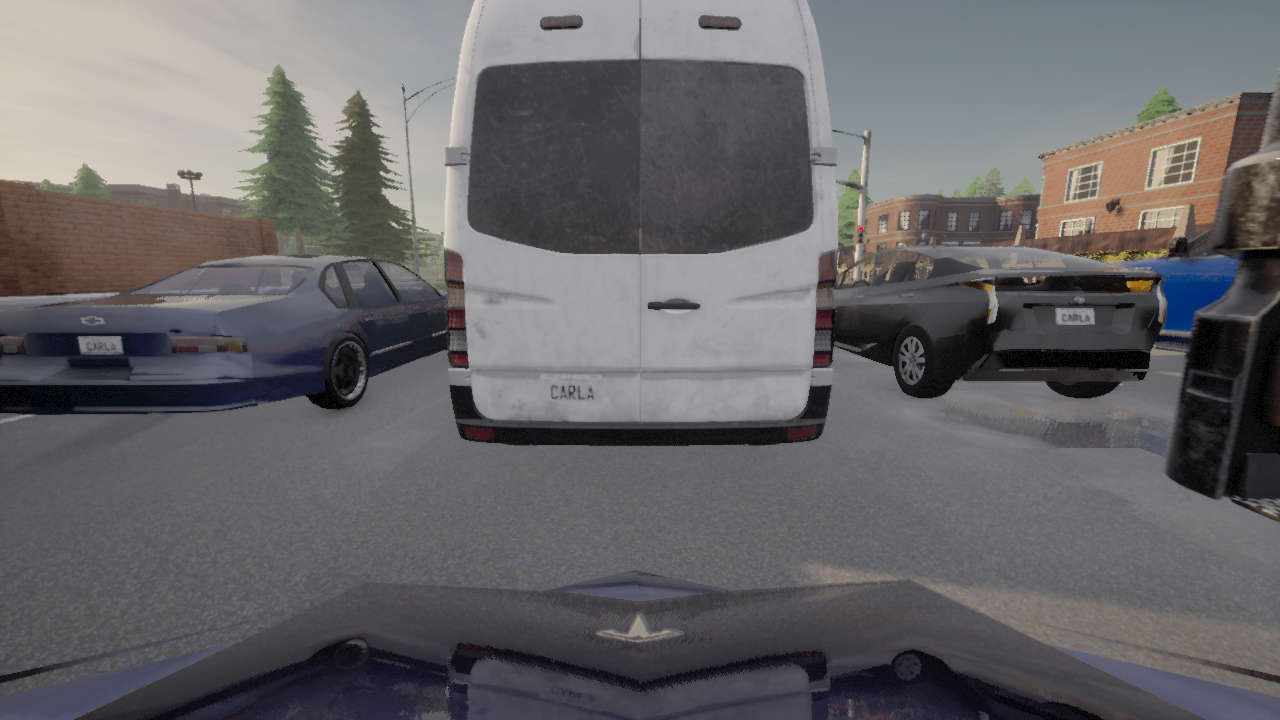cyclist: (0, 569, 1279, 719), (443, 0, 837, 446), (0, 254, 447, 413), (1163, 68, 1279, 522), (834, 244, 1166, 398), (1113, 227, 1237, 351)
